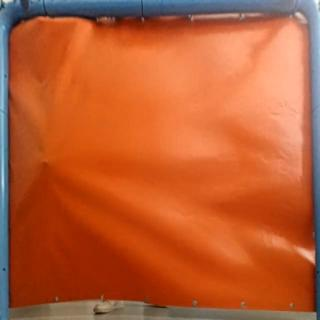Hit-hRxx: (40, 156, 51, 170)
